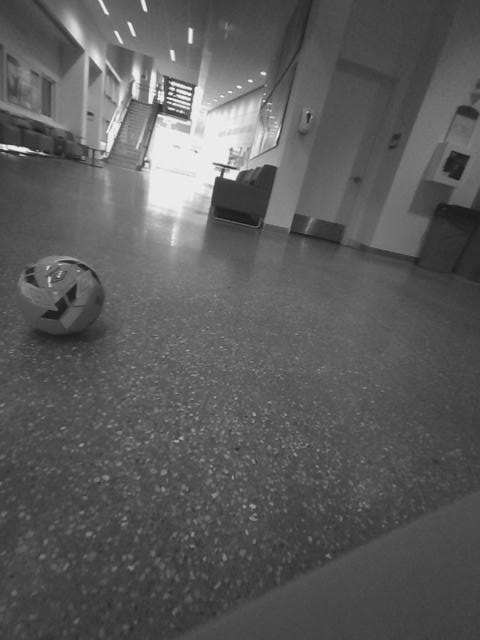ball: (259, 279, 320, 338)
